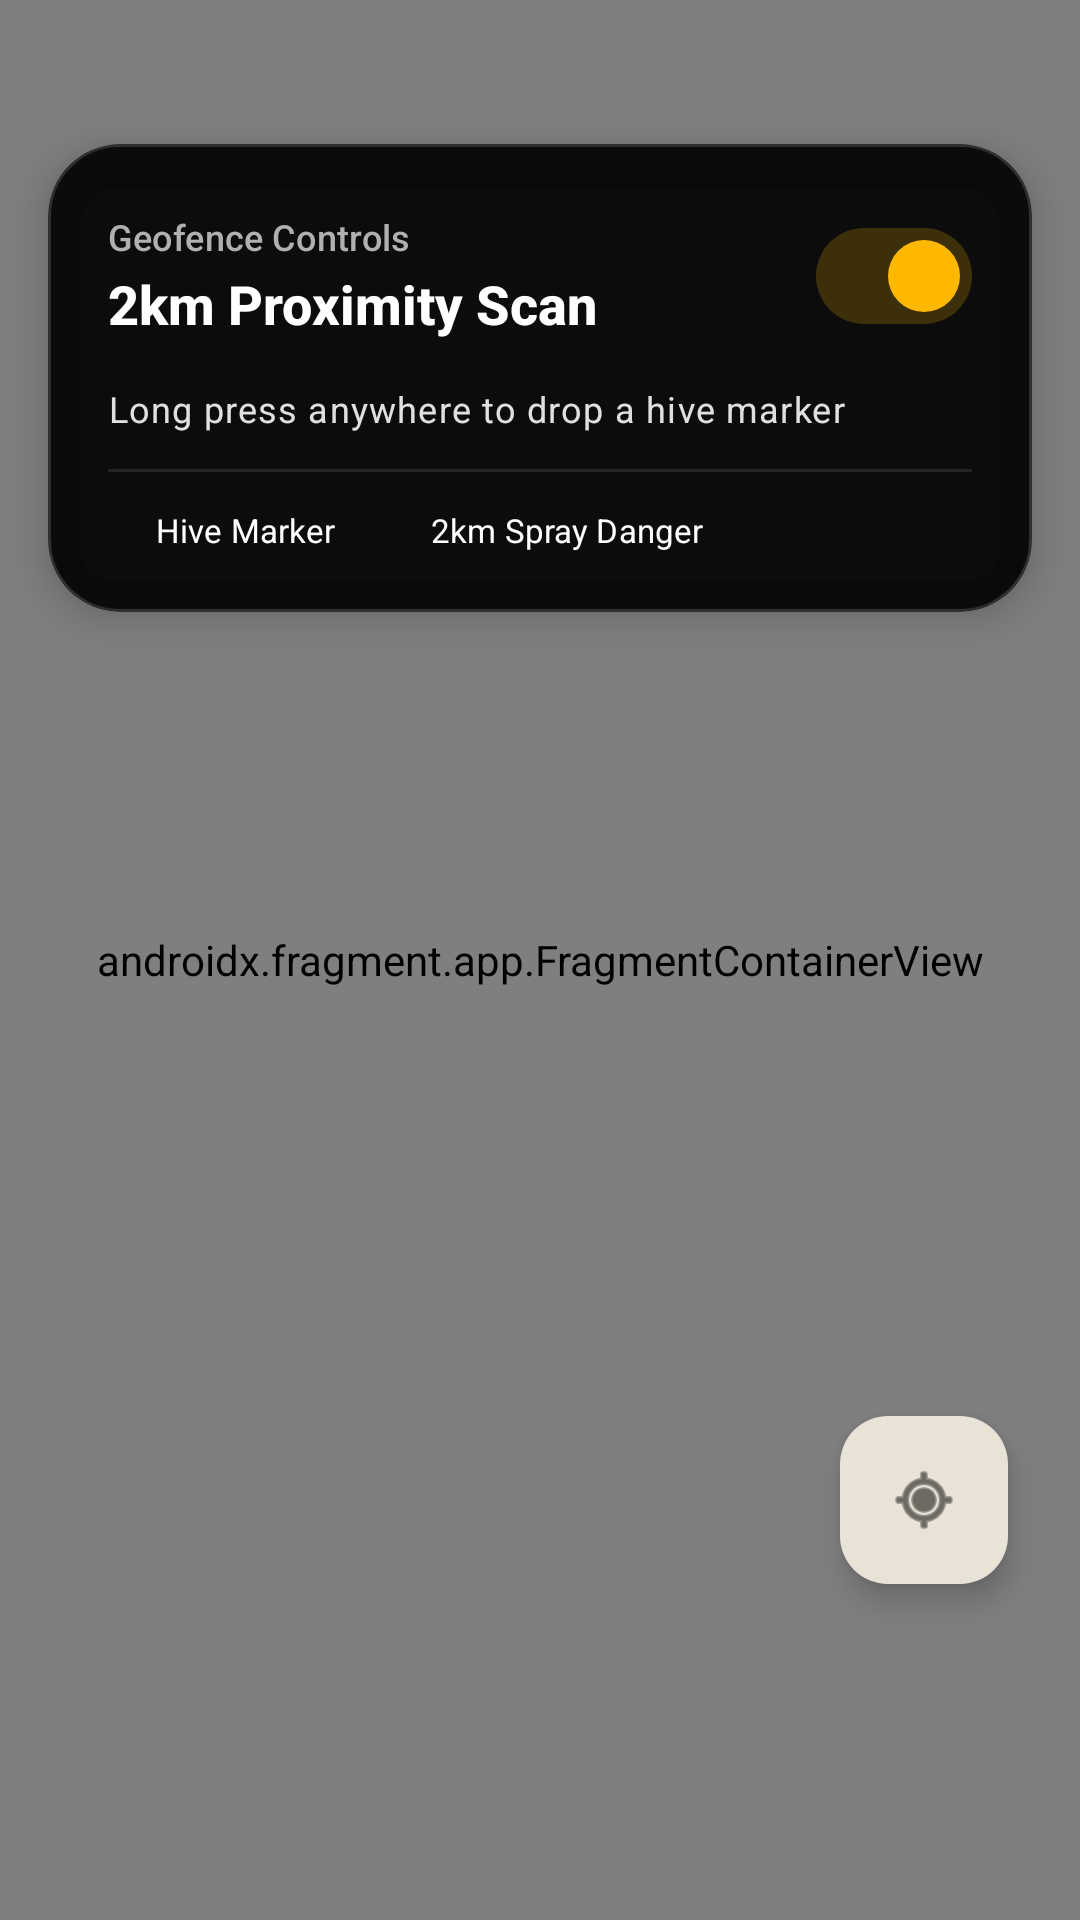

Icon click points for this 1080x1920 phone screenshot, format (x=x, y=y):
Locate Me: (x=924, y=1500)
